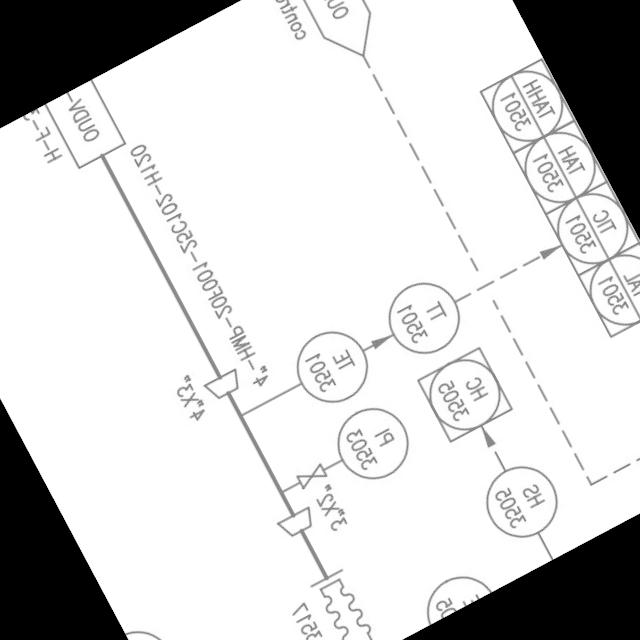EJ: (301, 564, 387, 640)
GV: (290, 456, 336, 494)
SP: (199, 365, 247, 406), (275, 504, 320, 542)
